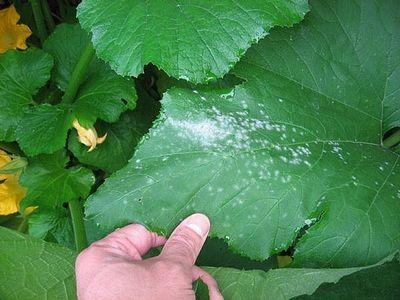Squash Powdery mildew leaf: (79, 73, 390, 249)
